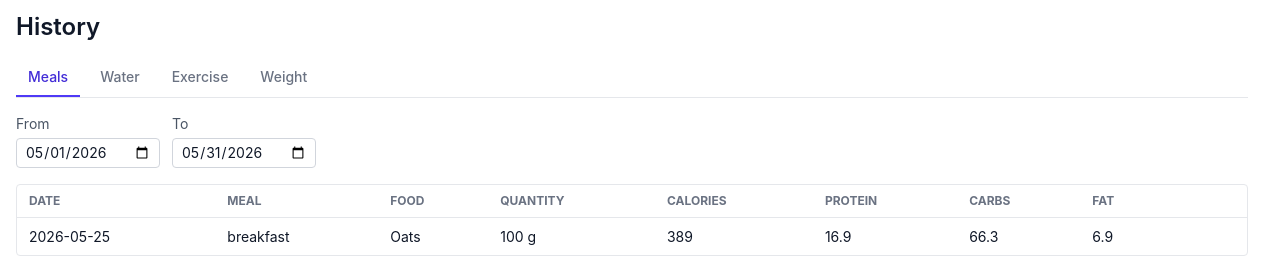
Scenario: History page › switches tabs and shows each category
expect the text "Oats" is shown: met, box [378,218,488,255]
Click the tab "Water": click(120, 78) [88,59,152,97]
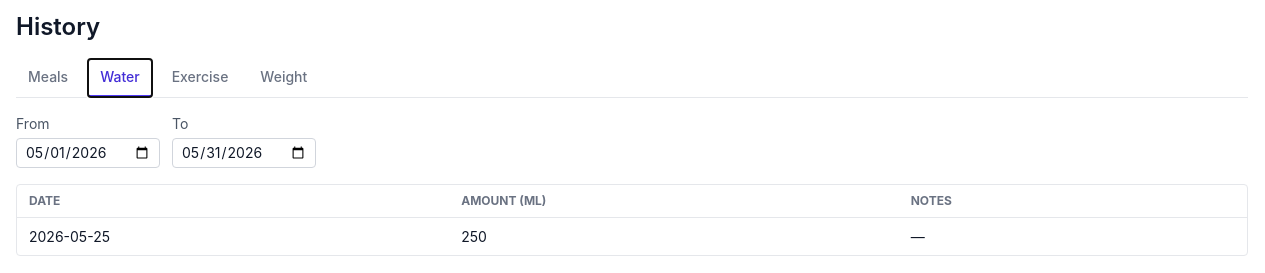
expect the text "250" is shown: met, box [449,218,899,255]
Click the tab "Exercise": click(200, 78) [160,59,240,97]
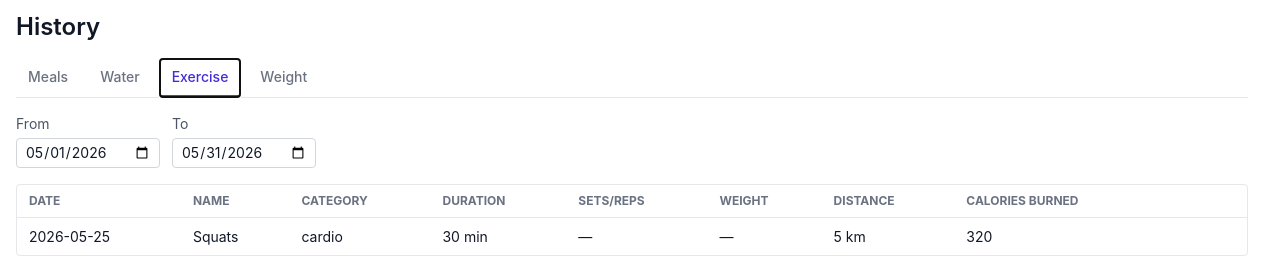
expect the text "Squats" is shown: met, box [181,218,290,255]
Click the tab "Weight": click(284, 78) [248,59,319,97]
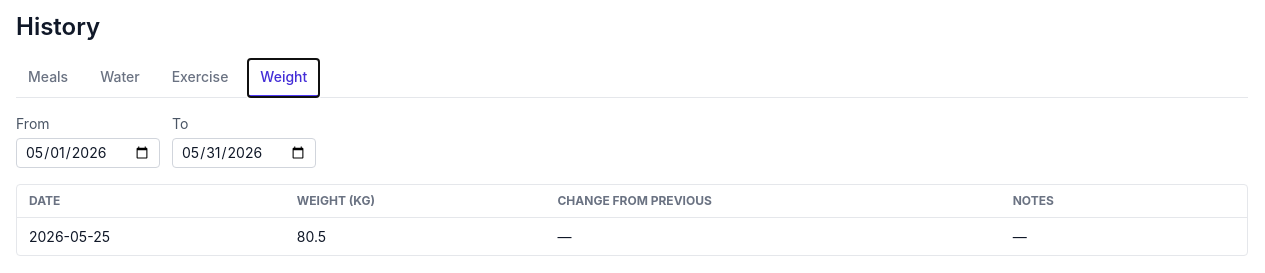
expect the text "80.5" is shown: met, box [285,218,545,255]
